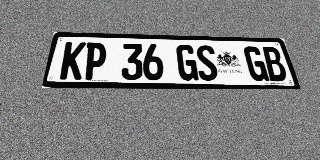3: (121, 43, 142, 80)
6: (143, 44, 164, 80)
B: (261, 47, 289, 81)
G: (243, 46, 270, 81), (176, 45, 199, 81)
K: (59, 42, 86, 80)
P: (82, 42, 107, 80)
S: (195, 45, 219, 81)
